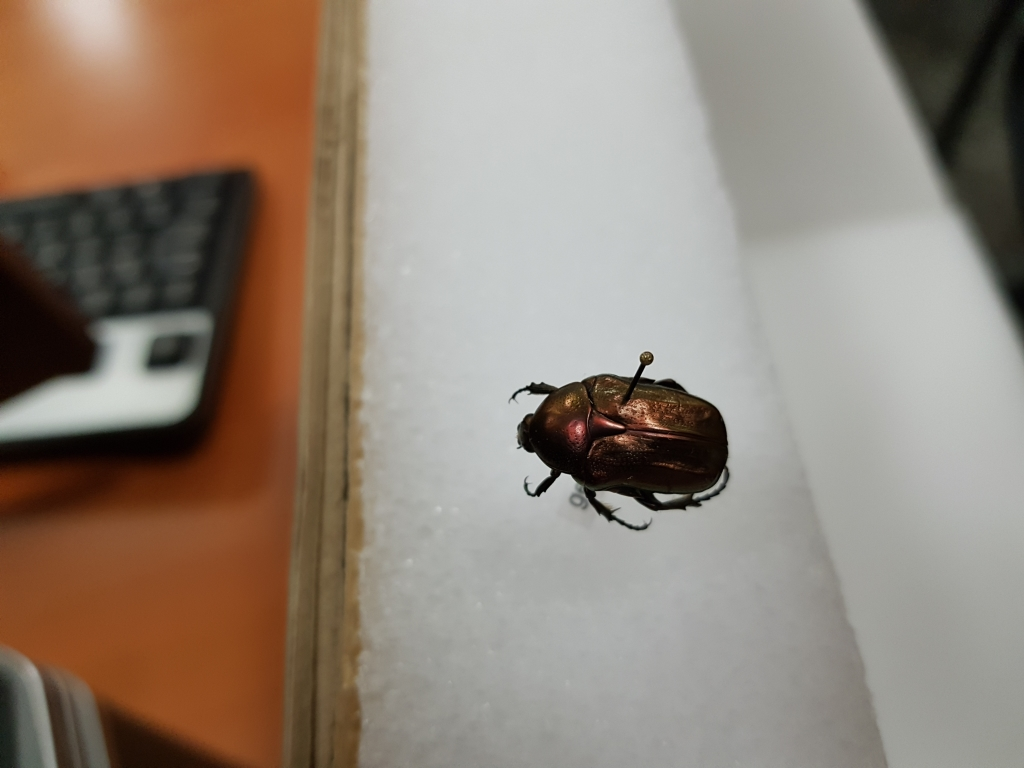Cetonia_aurata: (512, 375, 734, 533)
